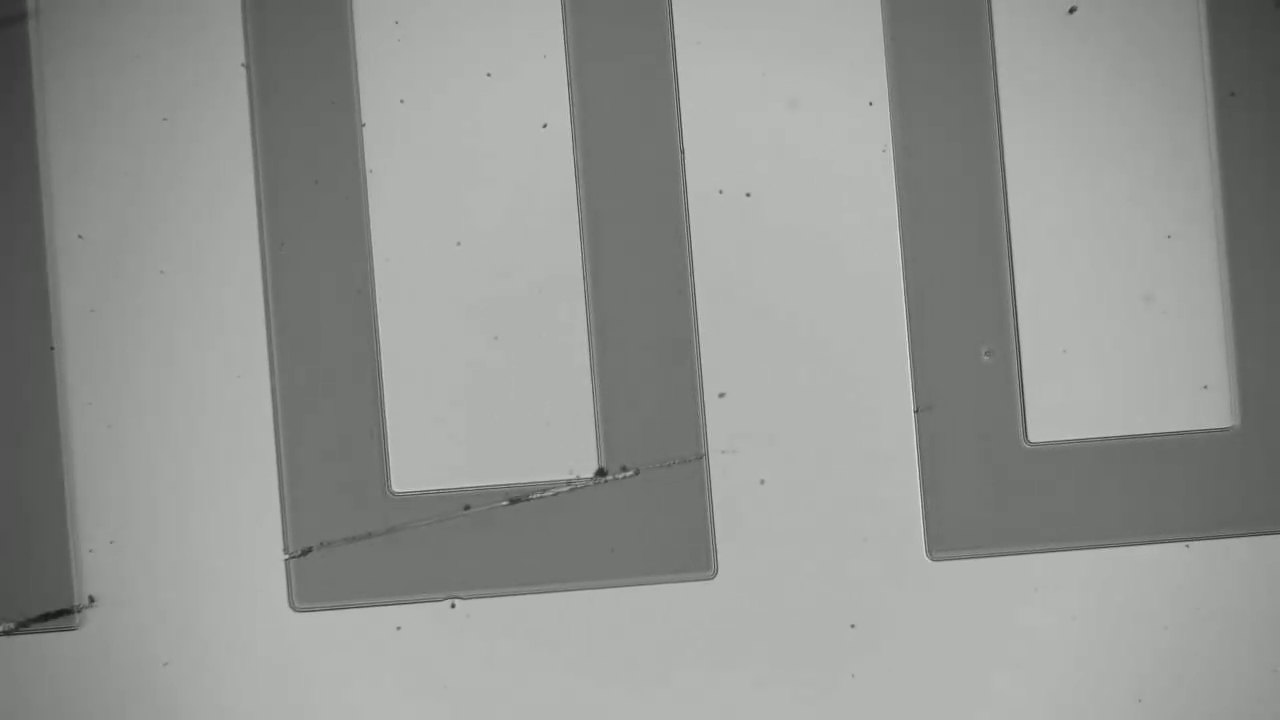scratch: (287, 456, 706, 559), (4, 605, 75, 632)
